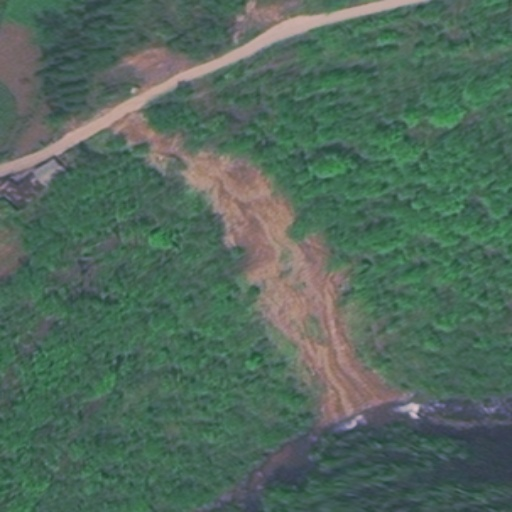landslide: (125, 112, 405, 427)
